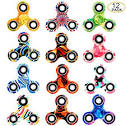fidget_kid_spinner_toys: (43, 30, 79, 60), (3, 32, 40, 54)
